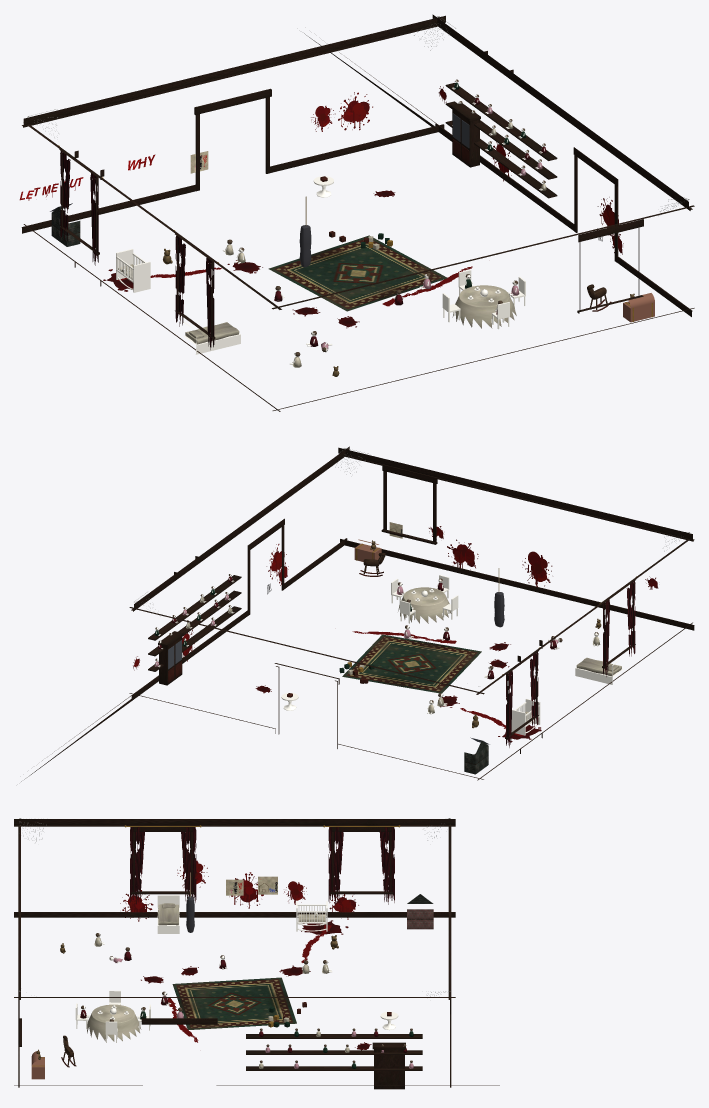
File: dark_nursery.glb
3 views of the same model, one above another, from view 1: azimuth 30°, elevation 25°; view 2: azimuth 150°, elevation 25°; view 3: azimuth 270°, elevation 25° (orthographic). The views are drawn at different scales.
Parts seen in each view (by area): view 1: dark_nursery; view 2: dark_nursery; view 3: dark_nursery.
Part boxes in pixels (box(x1,y1,x2,y2)): dark_nursery: box(19, 14, 694, 411); dark_nursery: box(21, 446, 694, 781); dark_nursery: box(14, 818, 499, 1089).
Bounding box in the file's own units: 19.34 × 5.24 × 30.84.
34 materials, 26 textured.
